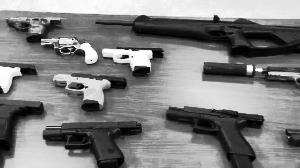handgun: (92, 8, 286, 65), (163, 98, 272, 166), (39, 119, 147, 166), (51, 67, 132, 115), (200, 59, 300, 94), (0, 96, 50, 160), (102, 42, 169, 76), (6, 14, 68, 47), (0, 58, 42, 95), (42, 35, 99, 62), (283, 125, 300, 148)
